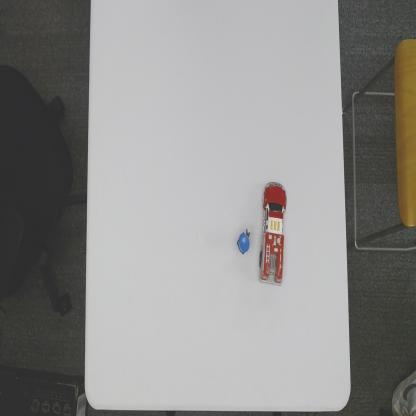Firetruck: (259, 181, 287, 285)
